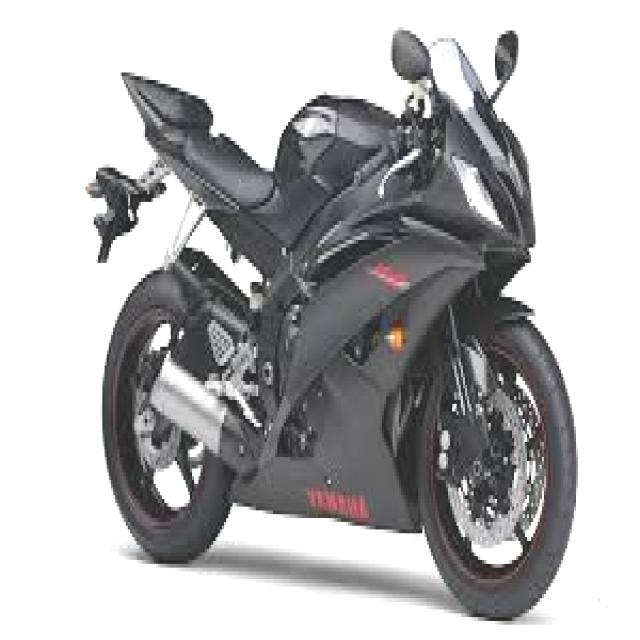MOTORCYCLE: (99, 21, 580, 618)
